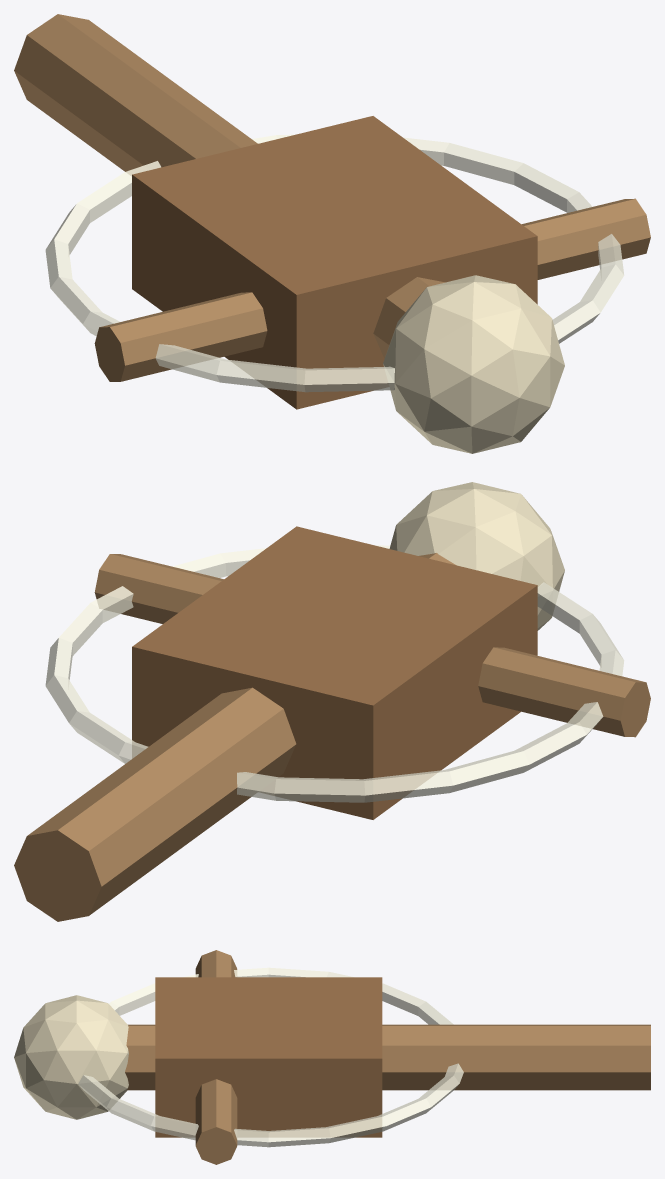
The model's file is combo_meter_obelisk.glb.
3 renders of one model, top to bottom at view 1: azimuth 30°, elevation 25°; view 2: azimuth 150°, elevation 25°; view 3: azimuth 270°, elevation 25°, orthographic. The views are drawn at different scales.
Parts seen in each view (by area): view 1: dummy_torso, dummy_head, dummy_post, timing_ring, arm_bar; view 2: dummy_torso, dummy_post, timing_ring, arm_bar, dummy_head; view 3: dummy_torso, dummy_post, dummy_head, timing_ring, arm_bar.
Boxes of the visible parts, x1,y1,x2,y2 form: dummy_torso: (132,116,537,409); dummy_head: (383,275,564,453); dummy_post: (14,14,445,358); timing_ring: (45,134,624,392); arm_bar: (94,198,650,381); dummy_torso: (132,526,537,819); dummy_post: (14,553,455,921); timing_ring: (45,545,624,802); arm_bar: (94,554,650,737); dummy_head: (389,482,564,630); dummy_torso: (155,977,382,1137); dummy_post: (125,1024,650,1090); dummy_head: (14,995,128,1119); timing_ring: (78,967,463,1147); arm_bar: (195,950,237,1164).
Bounding box in the file's own units: 1.2 × 0.36 × 1.83.
